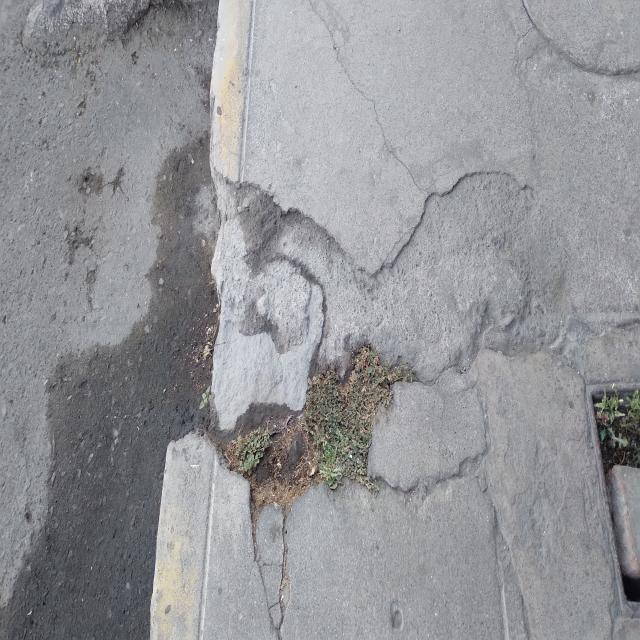hole: (214, 176, 394, 510)
